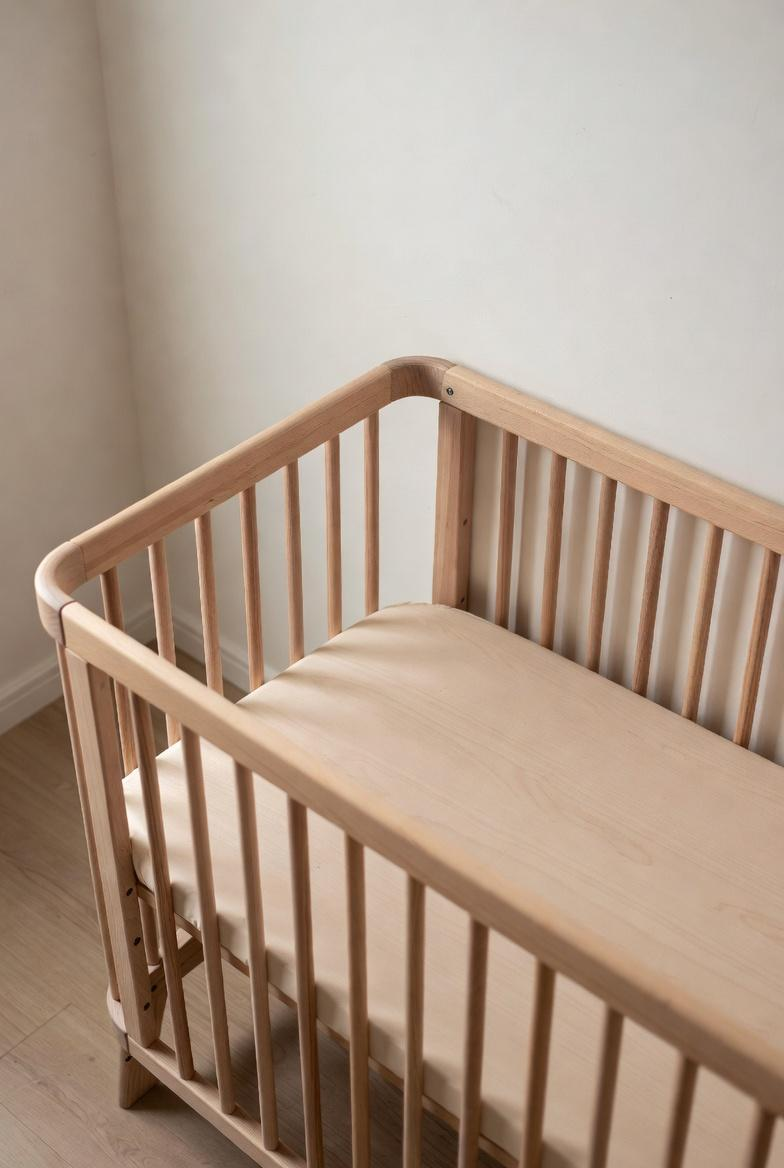crib: (37, 358, 784, 1168)
